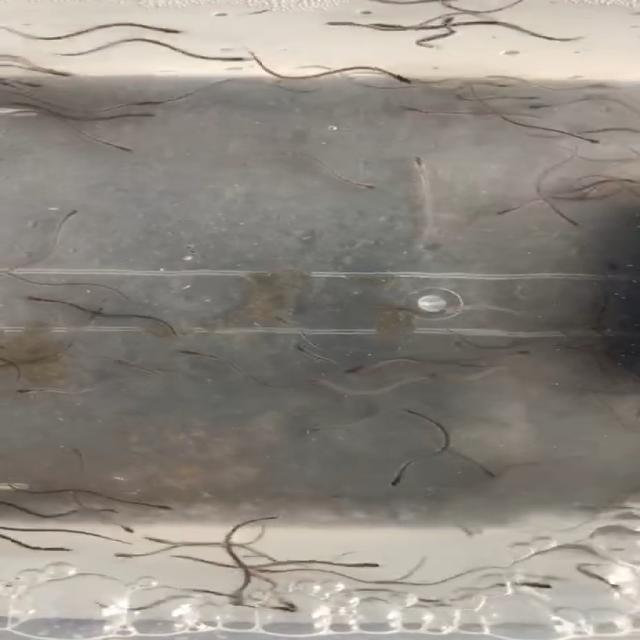active_glass_eel: (324, 554, 388, 574), (6, 74, 54, 98), (258, 596, 302, 620), (476, 70, 520, 91), (358, 17, 409, 34), (109, 544, 160, 561), (394, 103, 442, 121), (106, 139, 148, 159), (491, 347, 547, 362), (342, 178, 386, 197), (221, 584, 252, 609), (27, 63, 82, 77), (111, 110, 162, 125), (386, 72, 428, 90), (52, 203, 88, 224), (506, 578, 560, 592), (488, 202, 534, 218), (208, 56, 269, 68), (74, 306, 111, 325), (319, 14, 372, 27), (133, 501, 186, 514), (567, 132, 605, 150), (133, 24, 184, 37), (334, 362, 380, 376), (275, 595, 306, 615), (144, 533, 185, 548), (376, 472, 414, 488), (14, 294, 57, 308), (3, 383, 52, 395), (556, 214, 586, 233), (0, 261, 26, 282), (105, 522, 138, 538), (41, 538, 73, 554), (409, 156, 438, 173), (170, 347, 207, 360), (476, 467, 508, 482), (508, 93, 548, 104), (522, 102, 559, 113), (294, 346, 320, 360), (268, 312, 294, 326)
